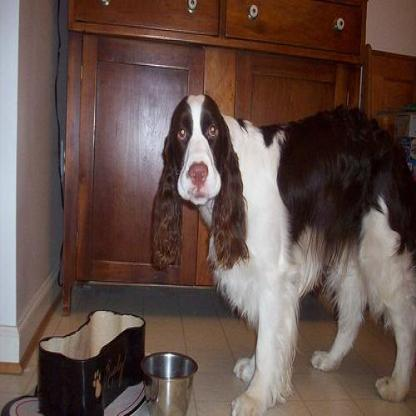English_springer: (148, 92, 414, 414)
